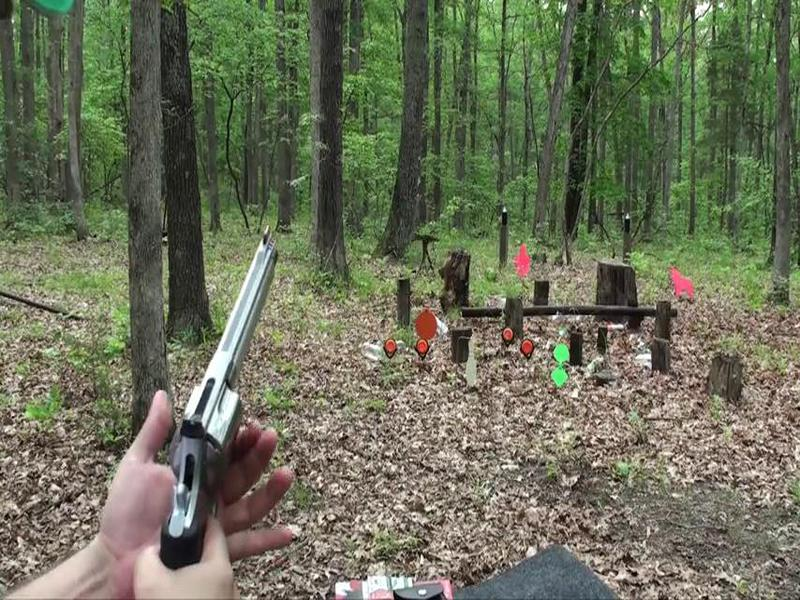Revolver: (110, 208, 322, 591)
